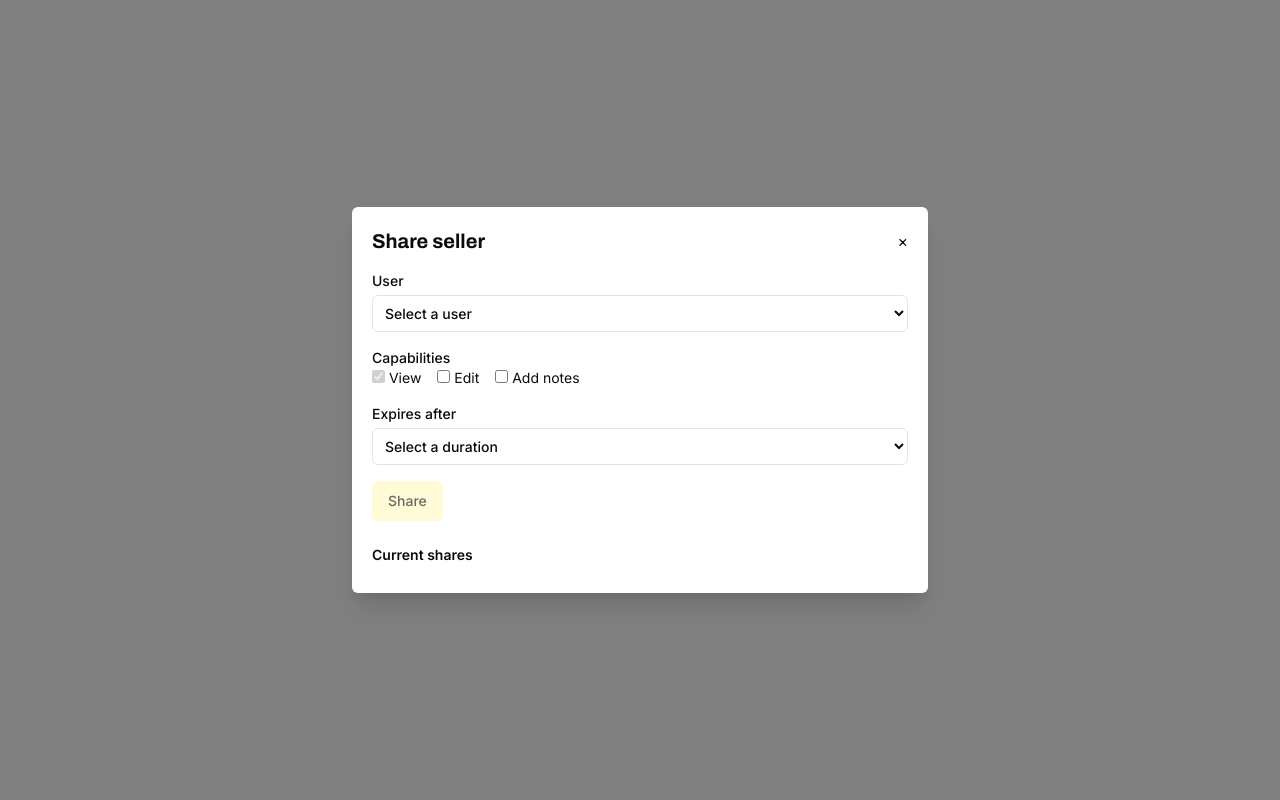
Test: LeadShareDialog › creates a view/edit/comment share and shows it in the active list
This screenshot has width=1280, height=800.
Check: the button "Share" is disabled, box [372, 481, 443, 521]
Select "Aman Verma" in the dropdown labelled "User" at {"x": 640, "y": 314}, box [372, 295, 908, 332]
Click the checkbox labelled "Edit".
click(444, 376)  # box [437, 370, 450, 383]
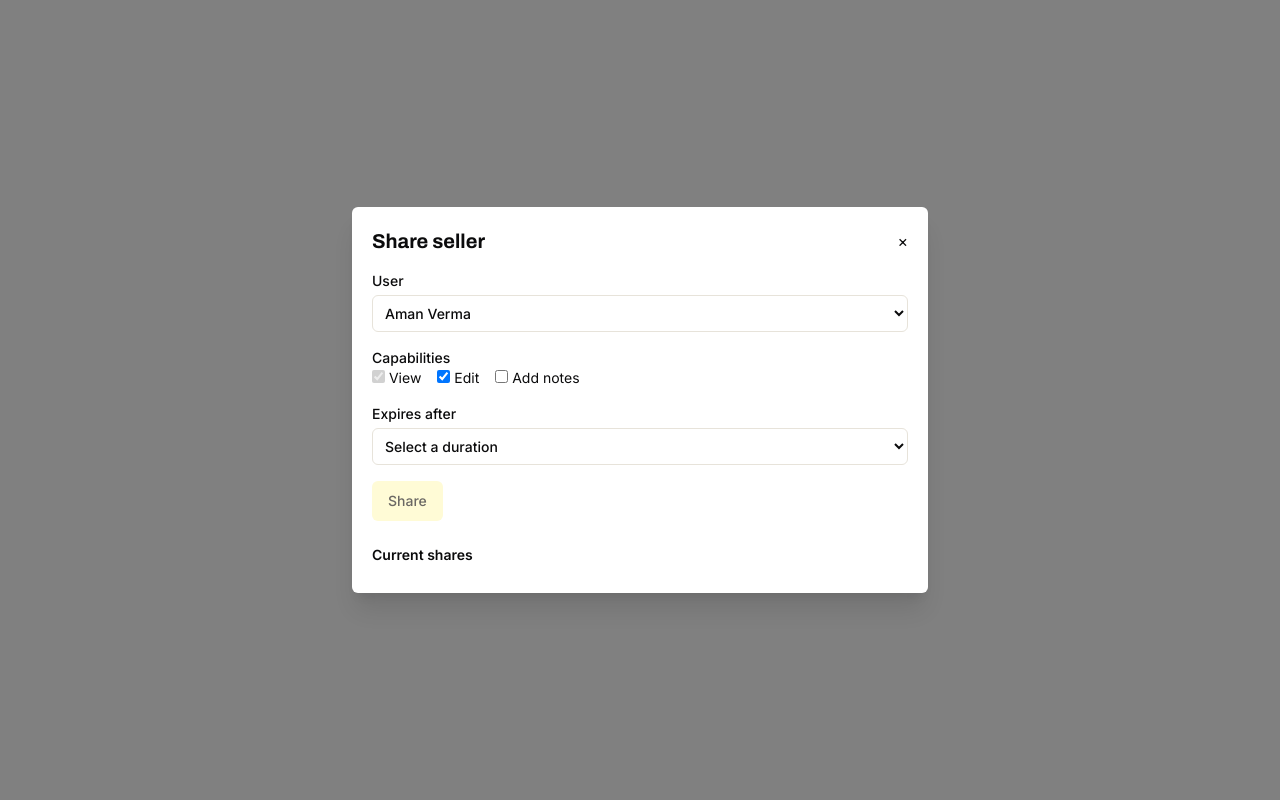
Click the checkbox labelled "Add notes".
click(502, 376)  # box [495, 370, 508, 383]
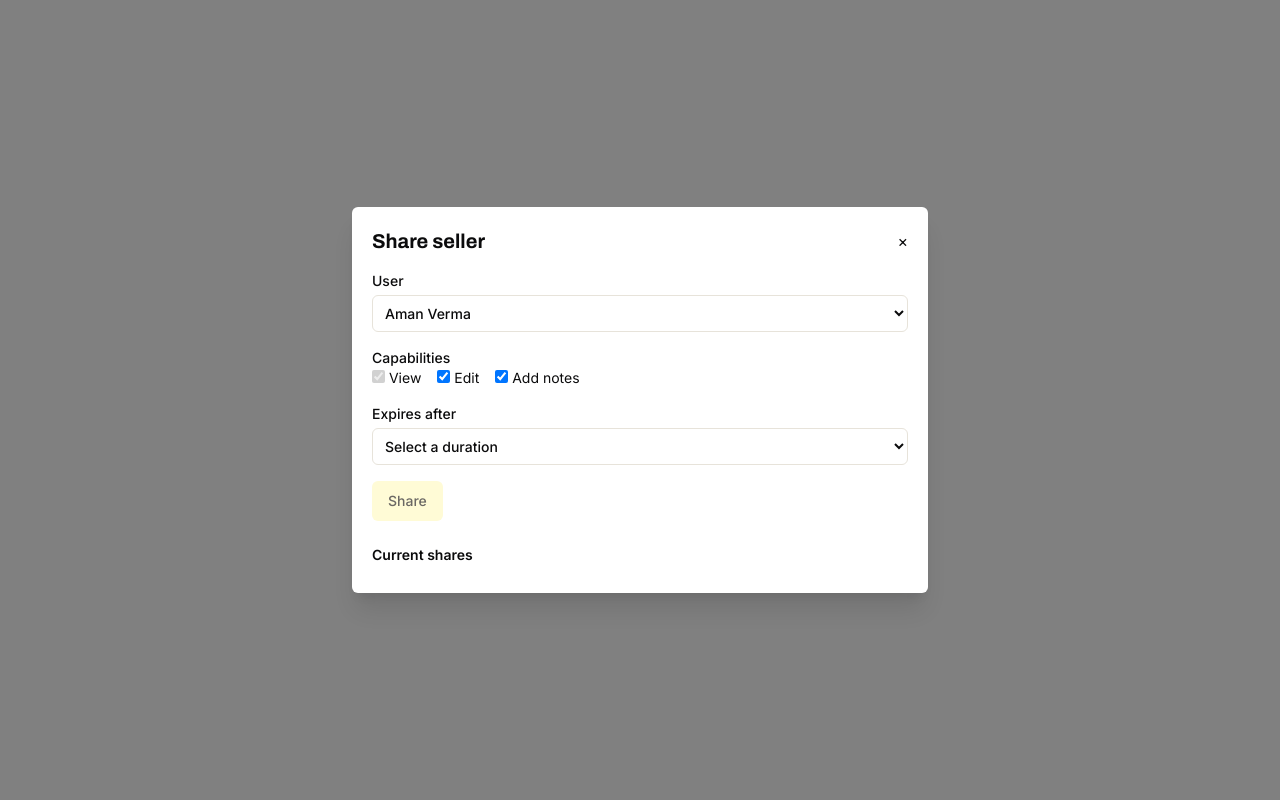
Check: the button "Share" is disabled, box [372, 481, 443, 521]
Select "7 days" in the dropdown labelled "Expires after" at {"x": 640, "y": 446}, box [372, 428, 908, 465]
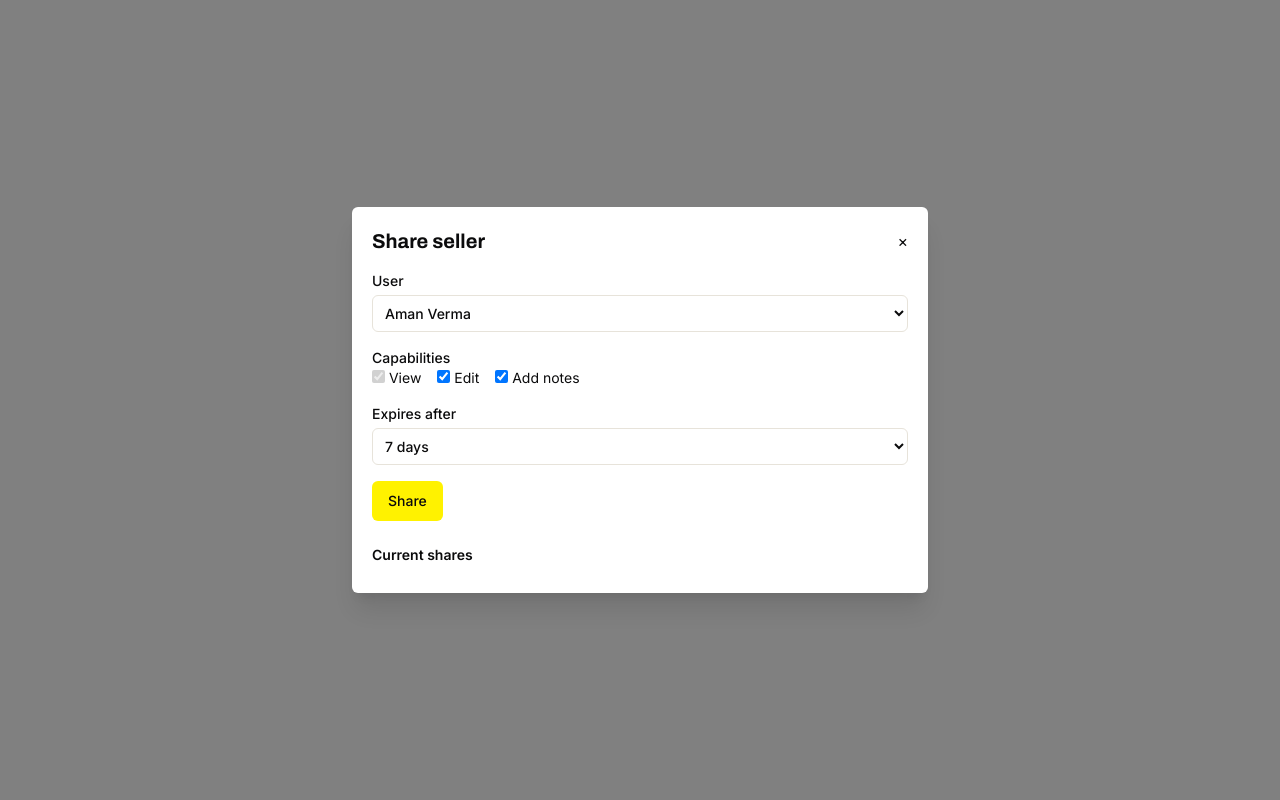
Check: the button "Share" is enabled
Click the button "Share".
click(407, 501)  # box [372, 481, 443, 521]
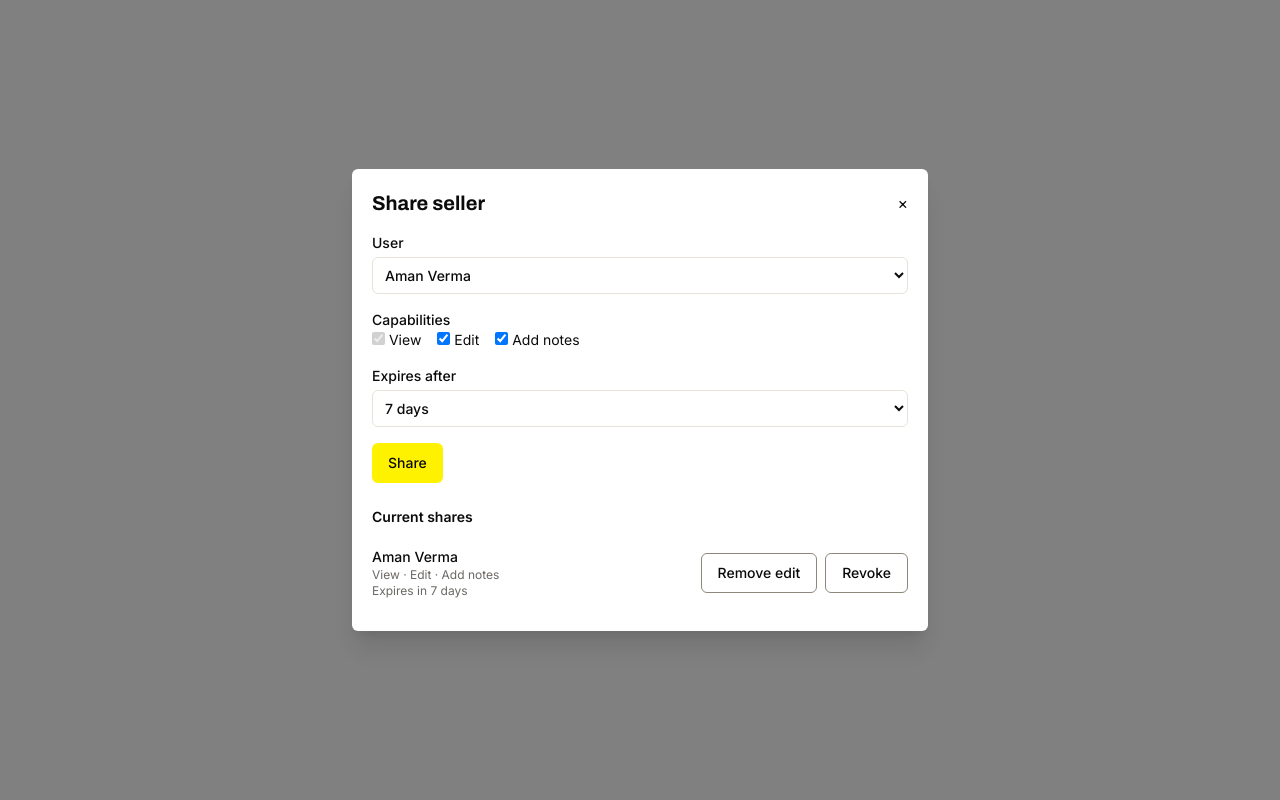
Check: the text "View · Edit · Add notes" is shown, box [372, 567, 499, 583]
Check: the text "Expires in 7 days" is shown, box [372, 583, 468, 598]
Click the button "Remove edit".
click(759, 573)  # box [700, 553, 817, 593]
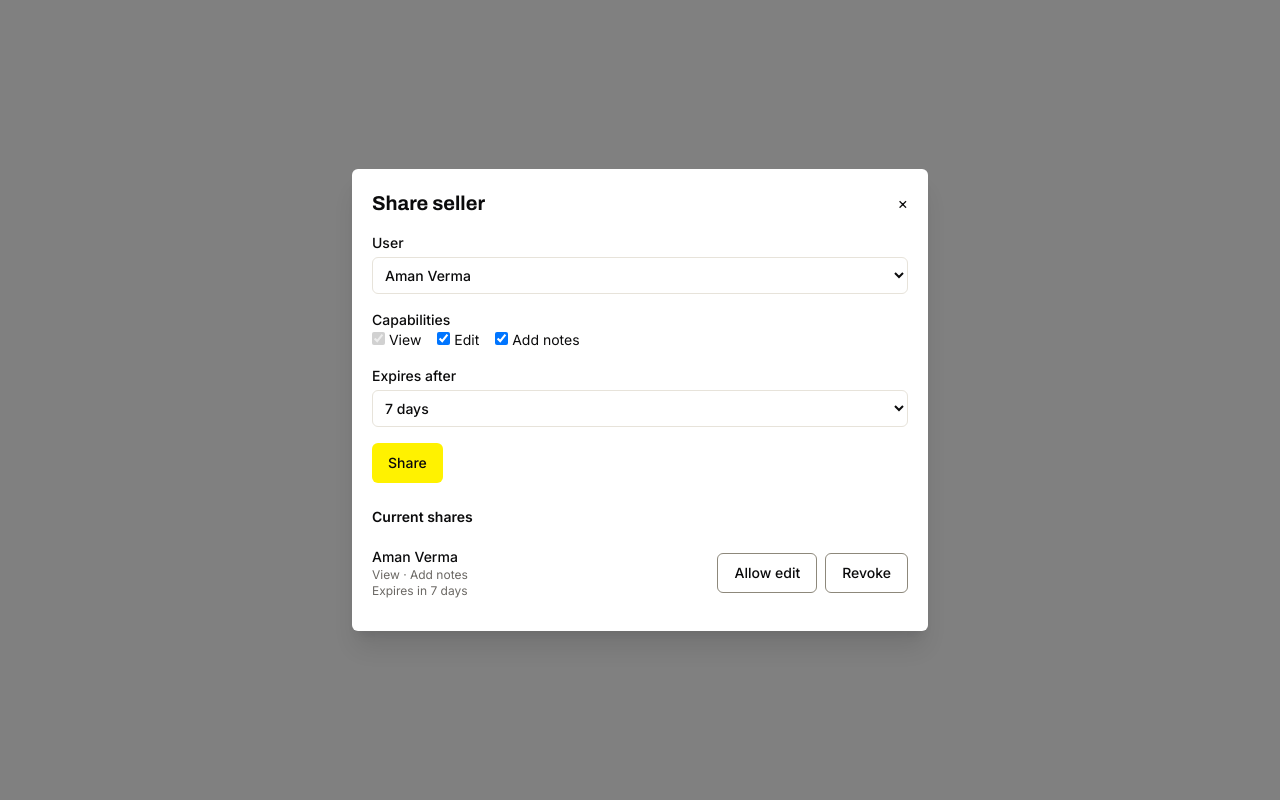
Check: the text "View · Add notes" is shown, box [372, 567, 468, 583]
Click the button "Revoke".
click(867, 573)  # box [825, 553, 908, 593]
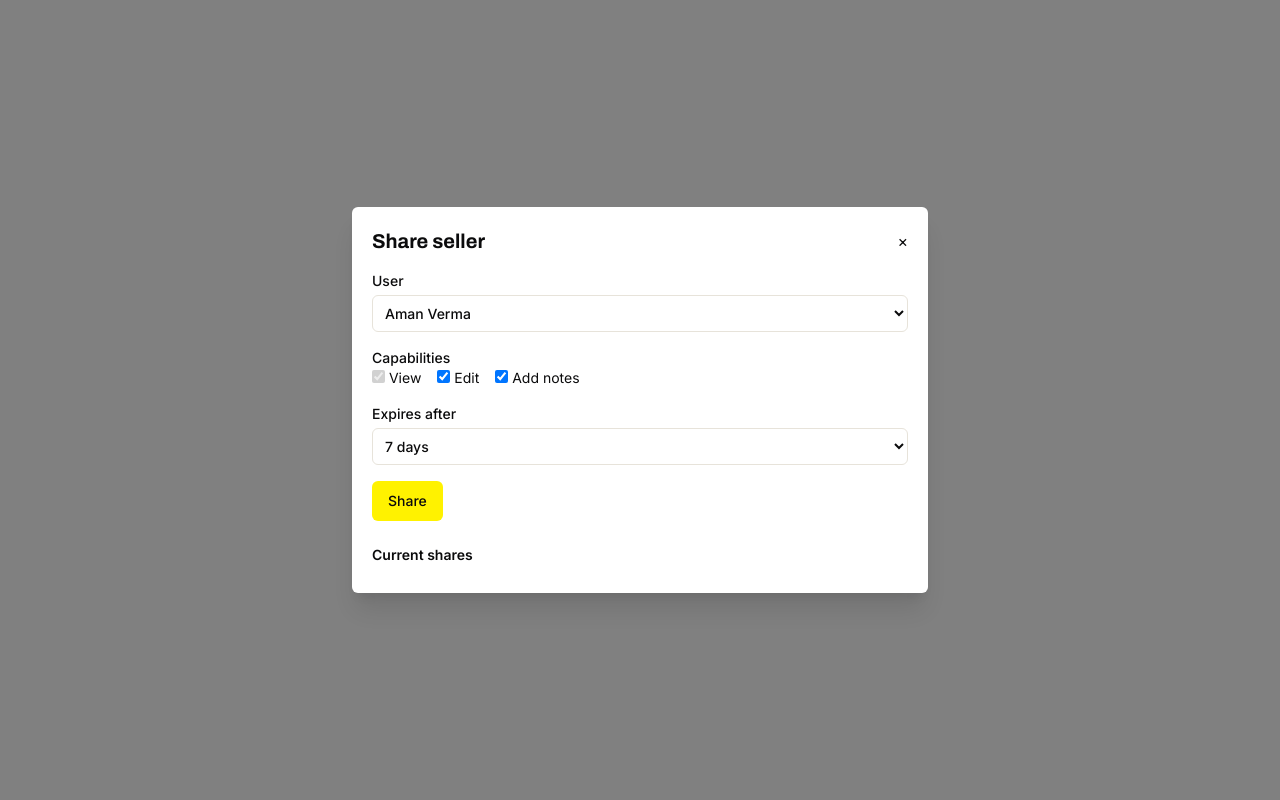
Check: the button "Allow edit" is gone
